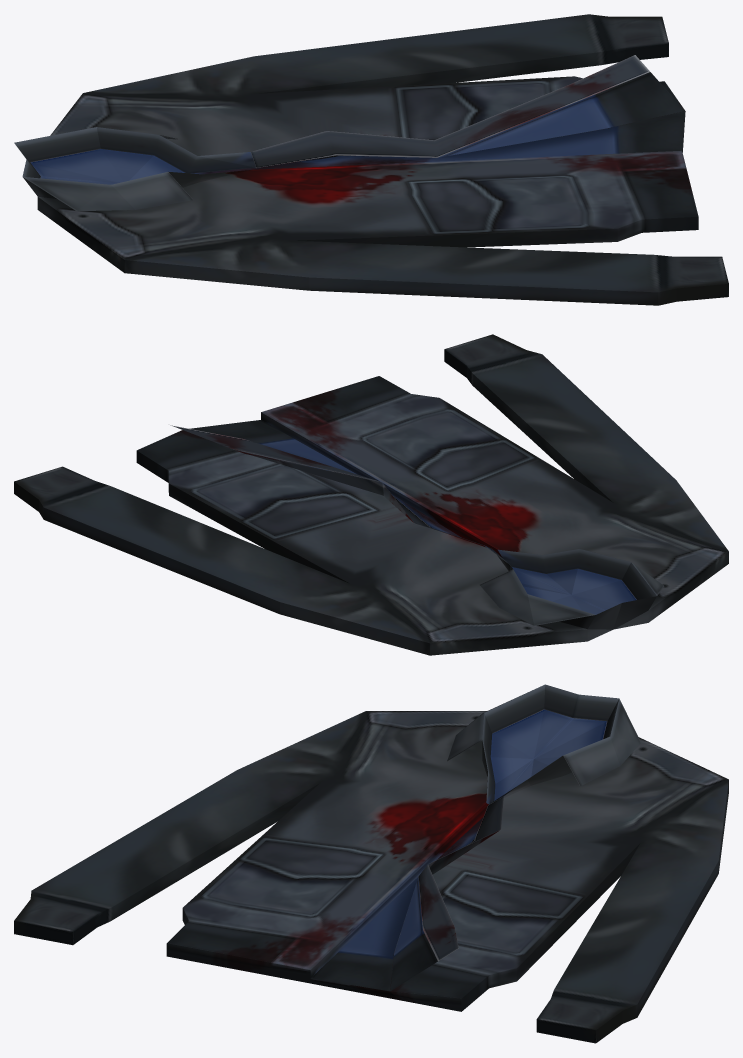
The model's file is FaYuanWai_01_YiFu_01.FBX.
The picture shows the model from 3 angles, top to bottom: view 1: azimuth 30°, elevation 25°; view 2: azimuth 150°, elevation 25°; view 3: azimuth 270°, elevation 25°; orthographic projection. The views are drawn at different scales.
Visible parts, largest first — view 1: PenQuanGuangChang_yifu_01; view 2: PenQuanGuangChang_yifu_01; view 3: PenQuanGuangChang_yifu_01.
Part boxes in pixels (bbox=[...]): PenQuanGuangChang_yifu_01: bbox=[14, 14, 728, 305]; PenQuanGuangChang_yifu_01: bbox=[14, 334, 728, 655]; PenQuanGuangChang_yifu_01: bbox=[14, 684, 728, 1043].
Size of the model in its own units: 907 by 63.05 by 842.
